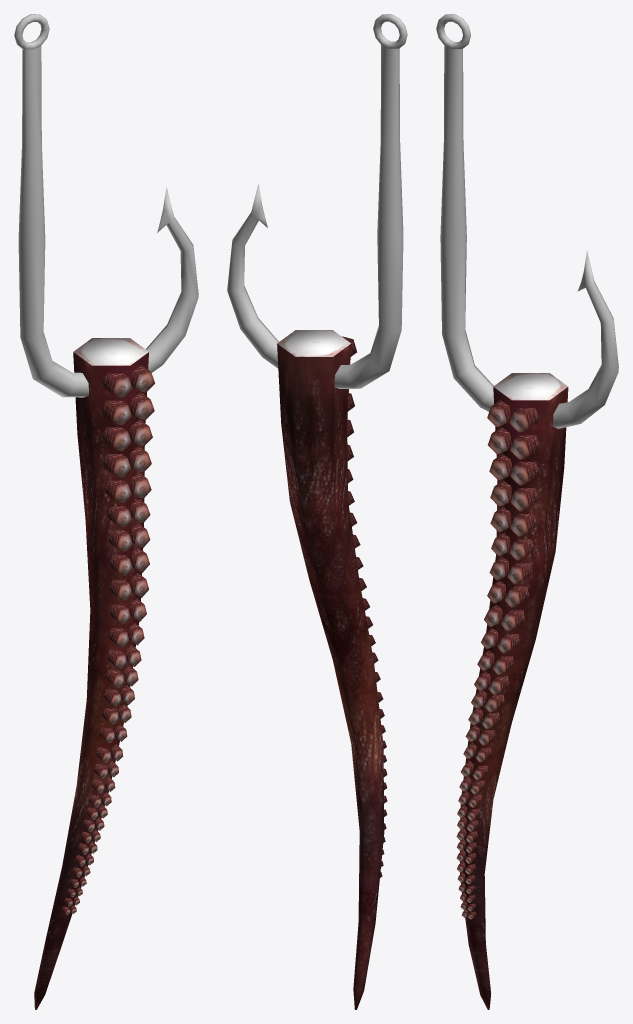
The model's file is Bait_Octopus.fbx.
3 views of the same model, side by side, from view 1: azimuth 30°, elevation 25°; view 2: azimuth 150°, elevation 25°; view 3: azimuth 330°, elevation 25° (orthographic). The views are drawn at different scales.
Parts seen in each view (by area): view 1: Bait_Octo; view 2: Bait_Octo; view 3: Bait_Octo.
Boxes of the visible parts, x1,y1,x2,y2 form: Bait_Octo: [14, 14, 198, 1009]; Bait_Octo: [227, 14, 407, 1009]; Bait_Octo: [436, 14, 618, 1009].
Size of the model in its own units: 0.2116 by 1.11 by 0.1005.
